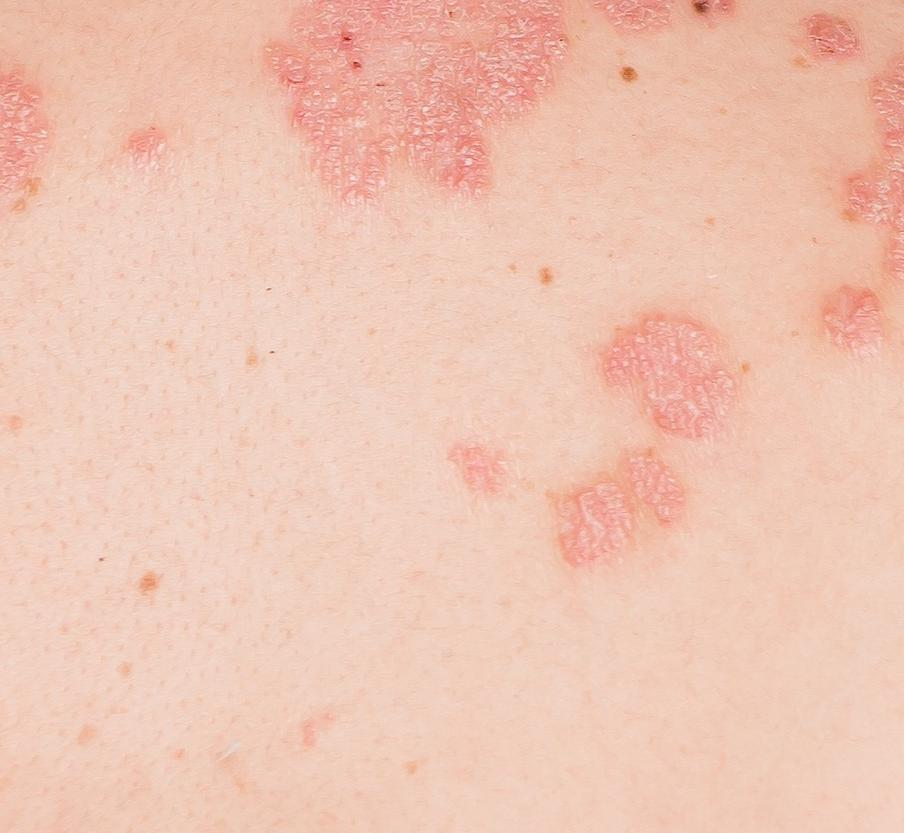plaque psoriasis: (727, 16, 904, 325), (342, 715, 504, 833), (871, 188, 904, 547), (453, 0, 647, 61), (253, 656, 340, 762), (848, 644, 904, 791), (554, 308, 620, 430), (664, 0, 799, 52), (783, 780, 861, 833), (180, 814, 264, 833)
